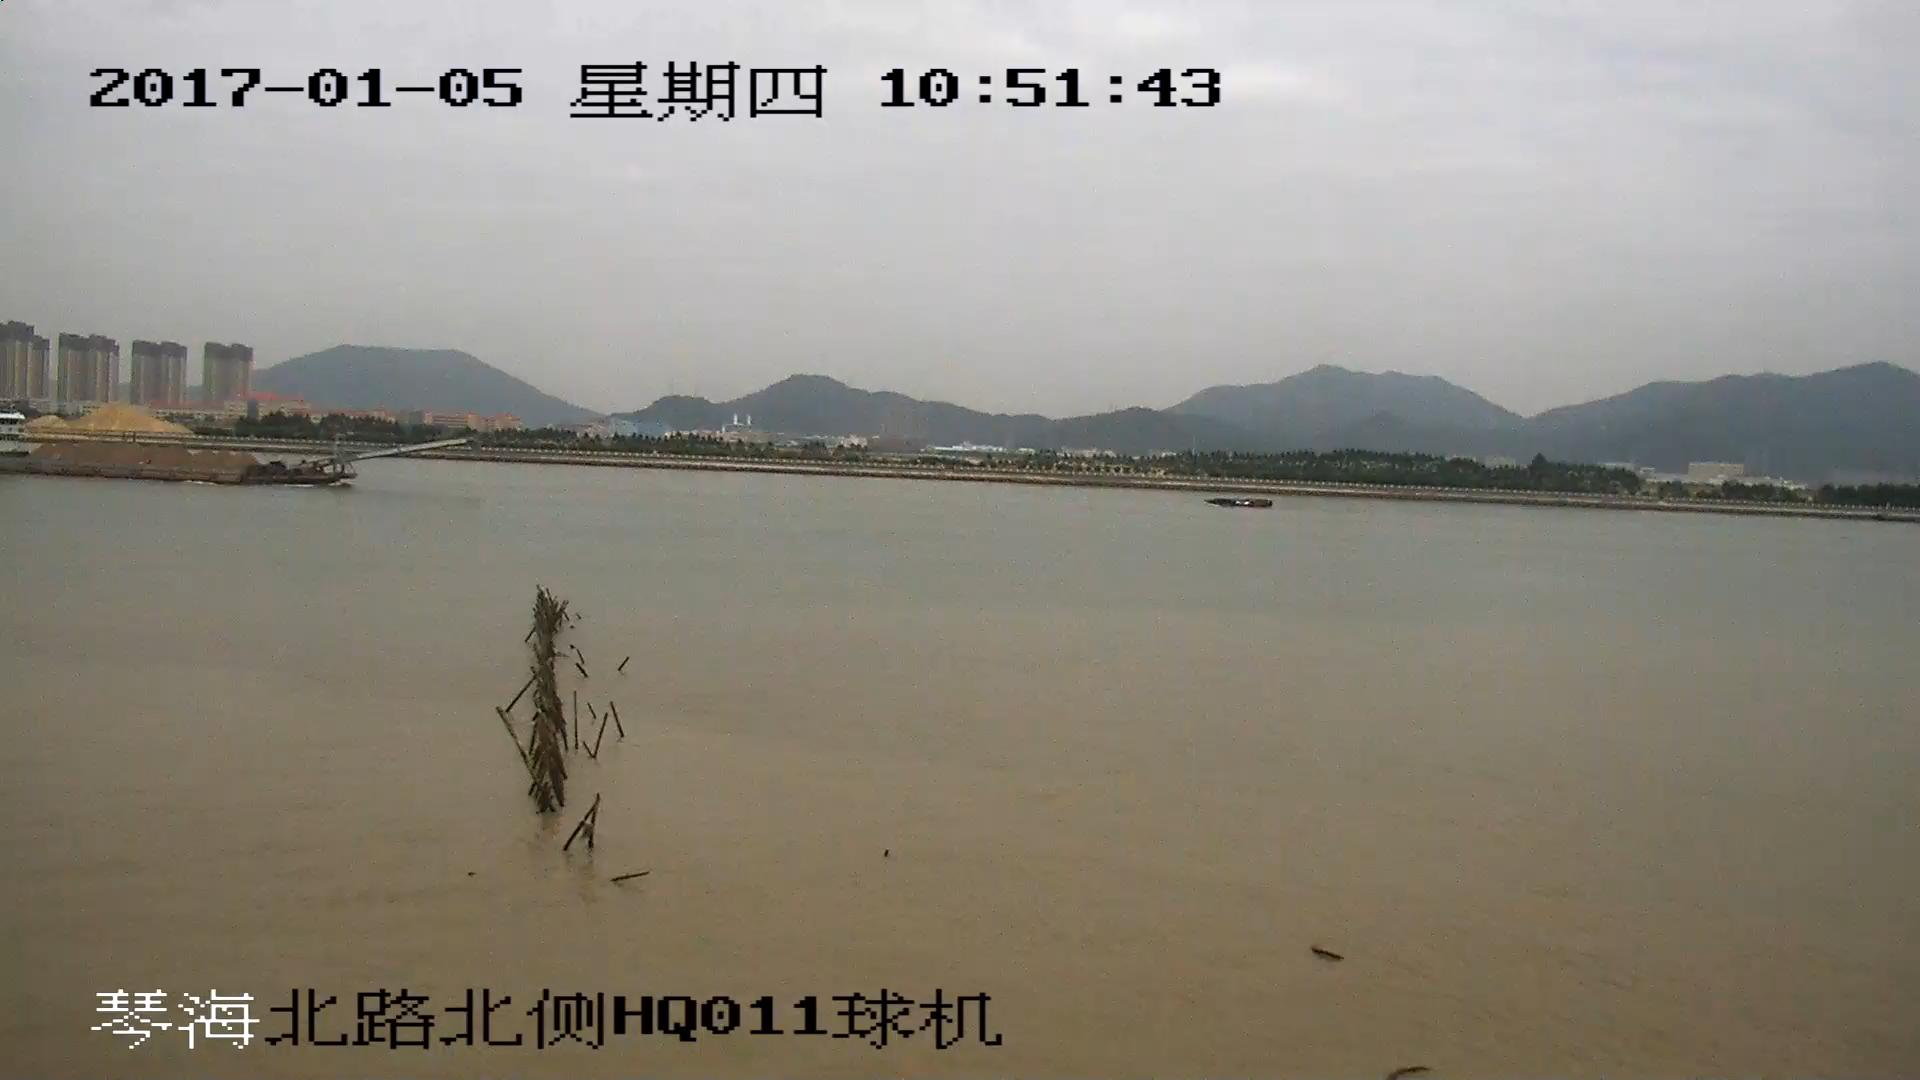ore carrier: (1, 416, 466, 479)
